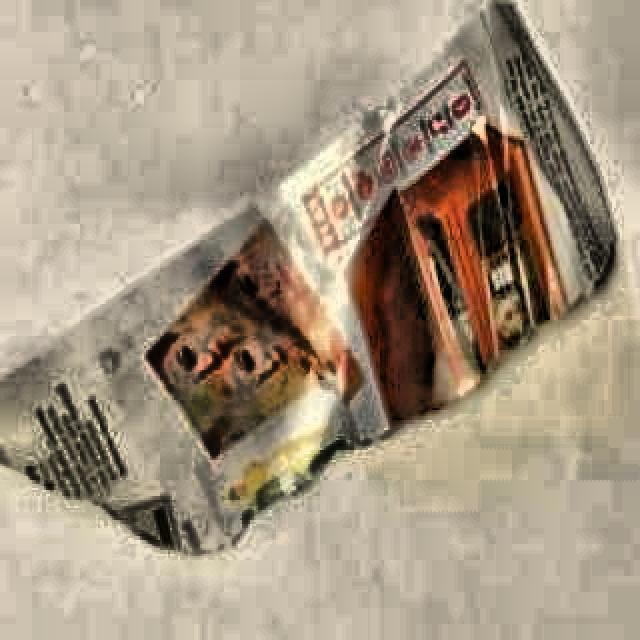paper: (0, 0, 616, 556)
